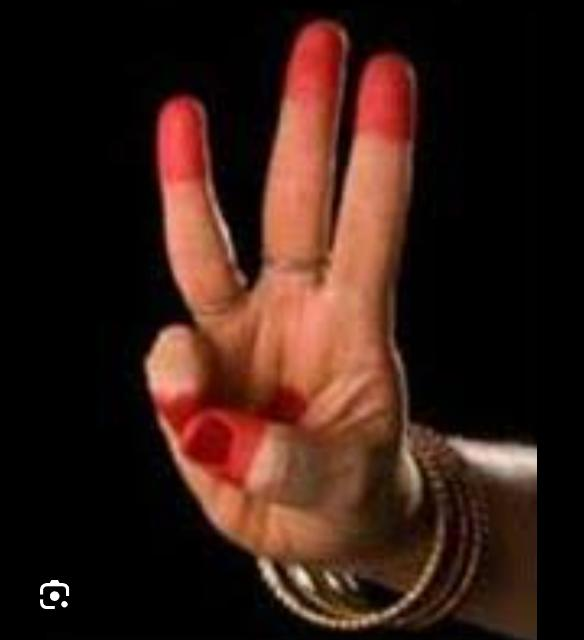trishool: (146, 21, 428, 560)
